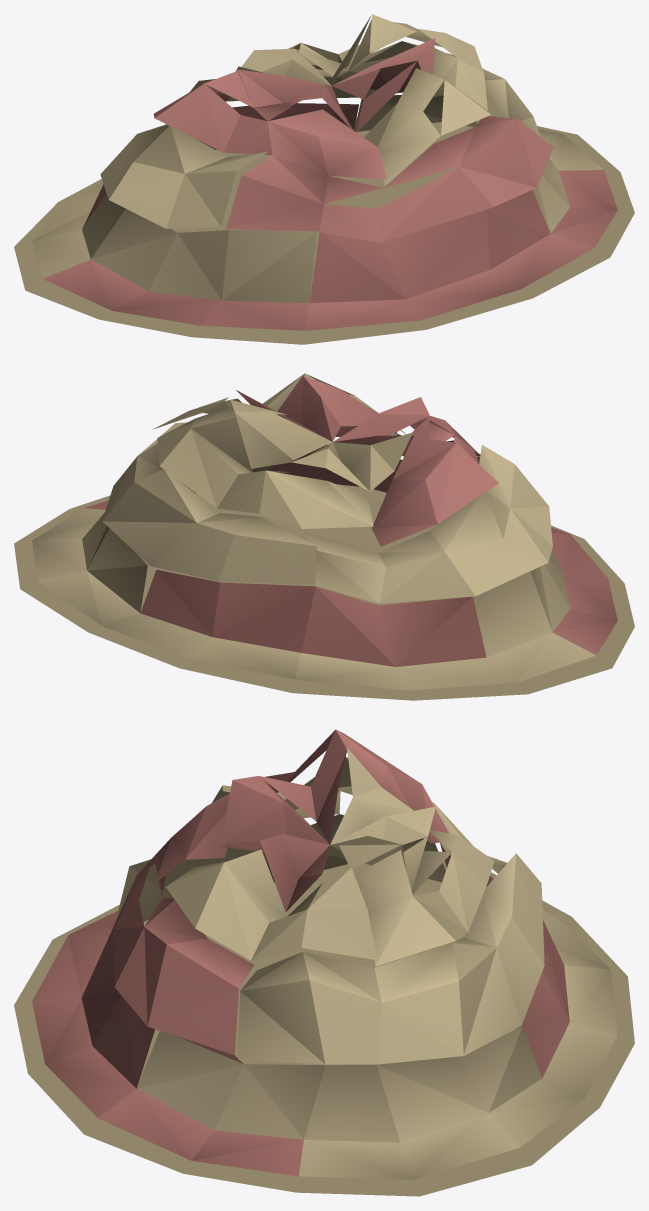
File: nets.lod.glb
3 renders of one model, top to bottom at view 1: azimuth 30°, elevation 25°; view 2: azimuth 150°, elevation 25°; view 3: azimuth 270°, elevation 25°, orthographic. The views are drawn at different scales.
Parts seen in each view (by area): view 1: nets; view 2: nets; view 3: nets.
Boxes of the visible parts, <box> form: nets: <box>14,14,634,344</box>; nets: <box>14,373,634,700</box>; nets: <box>14,729,634,1196</box>.
Size of the model in its own units: 1.98 by 0.5922 by 1.49.
